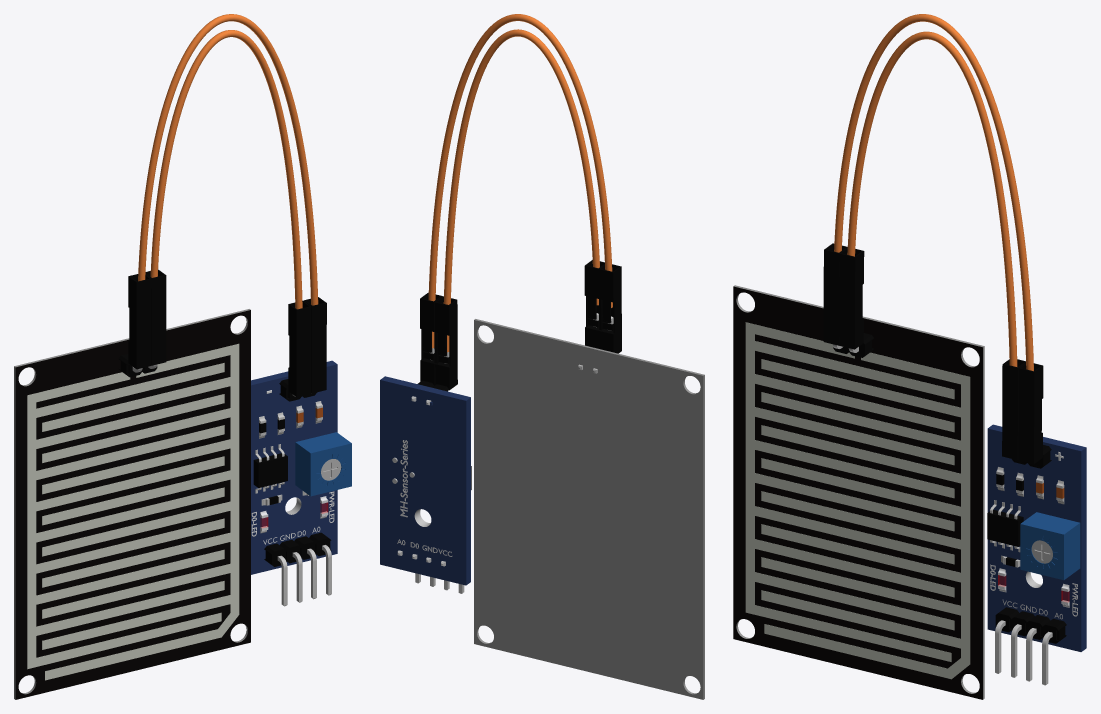
File: rain_sensor.glb
3 renders of one model, left to right at view 1: azimuth 30°, elevation 25°; view 2: azimuth 150°, elevation 25°; view 3: azimuth 330°, elevation 25°, orthographic. The views are drawn at different scales.
Visible parts, largest first — view 1: branco_placa-material, cobre_010-material, base_tras-material, laranja_004-material (×2), PlasticoPreto_001-material (×4), azul_controle-material, plastico_preto_017-material, metal_007-material, Material-material; view 2: Material-material, base_tras-material, laranja_004-material (×2), PlasticoPreto_001-material (×4), metal_007-material, _BRANCO_004-material; view 3: branco_placa-material, cobre_010-material, base_tras-material, laranja_004-material (×2), PlasticoPreto_001-material (×4), azul_controle-material, plastico_preto_017-material, metal_007-material, Material-material.
Part boxes in pixels (<box>): branco_placa-material: <box>15,310,250,699</box>; cobre_010-material: <box>27,343,239,680</box>; base_tras-material: <box>251,360,337,574</box>; laranja_004-material (×2): <box>138,14,318,309</box>; PlasticoPreto_001-material (×4): <box>128,269,326,396</box>; azul_controle-material: <box>295,432,351,496</box>; plastico_preto_017-material: <box>253,379,331,566</box>; metal_007-material: <box>255,394,331,606</box>; Material-material: <box>14,309,250,699</box>; Material-material: <box>474,319,704,699</box>; base_tras-material: <box>380,376,470,585</box>; laranja_004-material (×2): <box>428,14,612,352</box>; PlasticoPreto_001-material (×4): <box>420,260,621,390</box>; metal_007-material: <box>392,348,464,593</box>; _BRANCO_004-material: <box>397,440,452,556</box>; branco_placa-material: <box>733,286,982,699</box>; cobre_010-material: <box>745,322,970,679</box>; base_tras-material: <box>987,424,1086,651</box>; laranja_004-material (×2): <box>834,14,1033,371</box>; PlasticoPreto_001-material (×4): <box>823,243,1043,463</box>; azul_controle-material: <box>1020,512,1080,580</box>; plastico_preto_017-material: <box>987,445,1066,643</box>; metal_007-material: <box>990,467,1064,685</box>; Material-material: <box>733,285,984,699</box>.
Size of the model in its own units: 0.0552 by 0.1047 by 0.00833.
